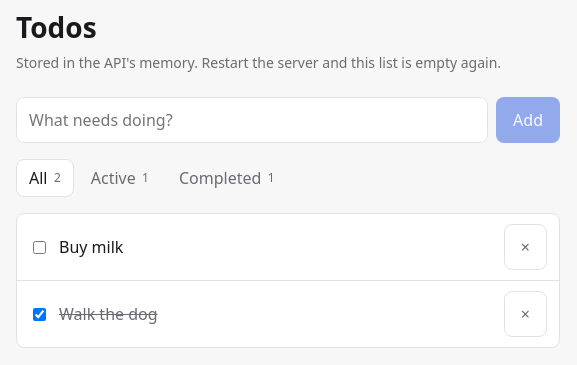
it: TodoApp › filters › explains the empty state per filter rather than showing a blank list
Step 1. Click the tab "Active 1" → x=120, y=178, box x1=78 y1=159 x2=162 y2=197
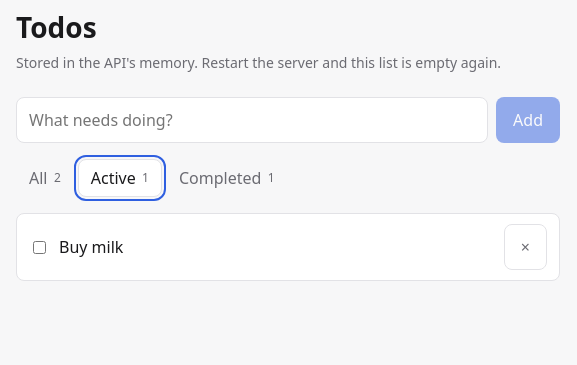
Step 2. Click the checkbox labelled "Buy milk" → x=40, y=247, box x1=33 y1=240 x2=46 y2=254
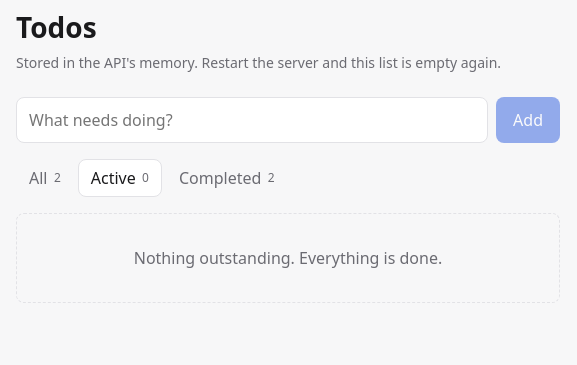
Result: the text "Nothing outstanding. Everything is done." is shown at x1=16 y1=213 x2=560 y2=303
